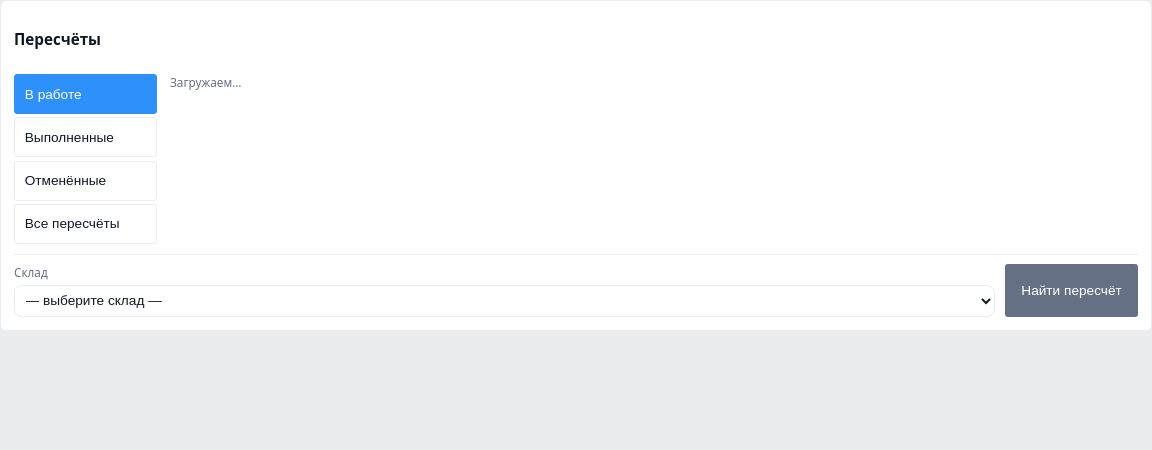
Test: журнал пересчётов › у проведённого пересчёта комментарий показан текстом, а не полем
The width and height of the screenshot is (1152, 450).
Click the button "Все пересчёты" at (86, 224), box [14,204,157,244]
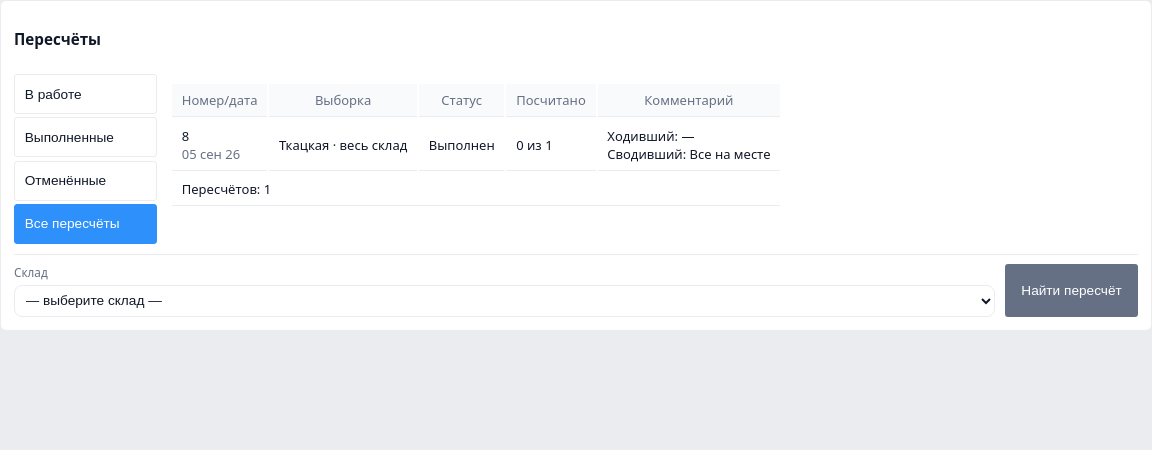
Click the text "Выполнен" at (462, 145), box [419,119,504,171]
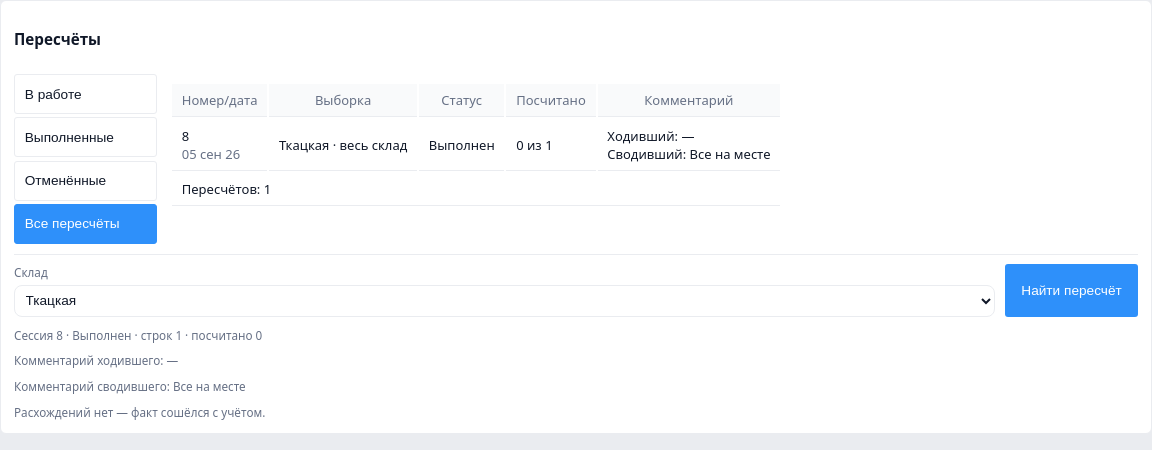
Check: the text "Сессия 8 · Выполнен · строк 1 · посчитано 0" is shown, box [14,327,262,343]
Check: the text "Комментарий сводившего: Все на месте" is shown, box [14,378,246,394]
